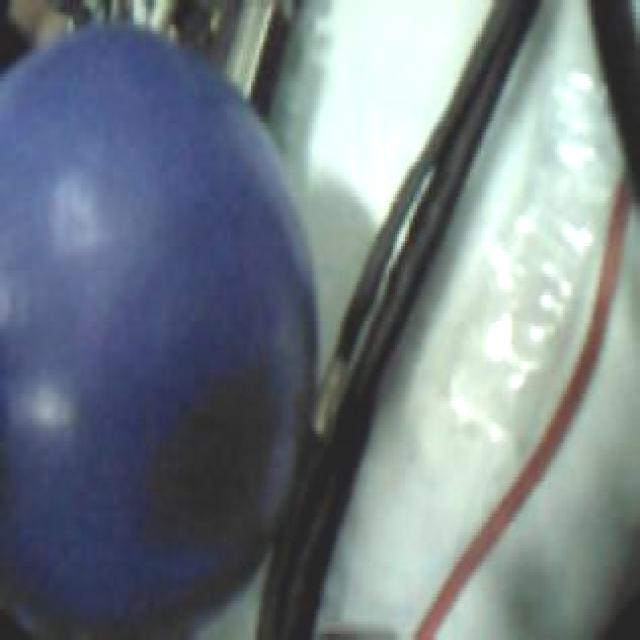BallPurple: (0, 22, 318, 630)
